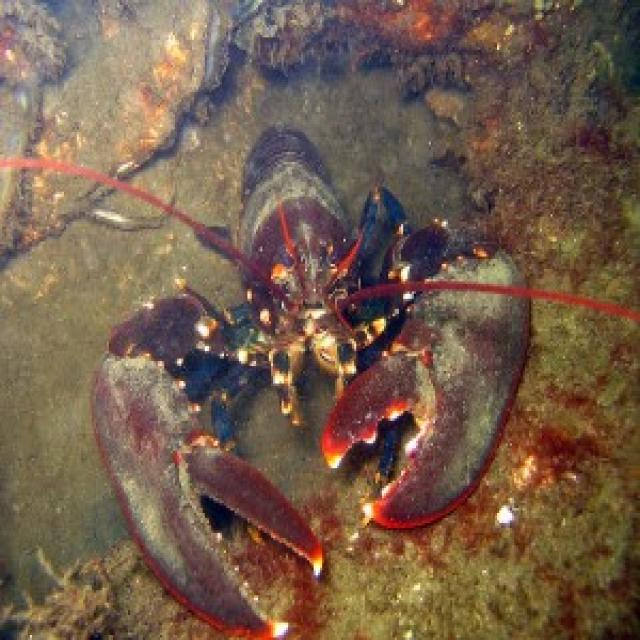lobsters: (26, 146, 542, 594)
